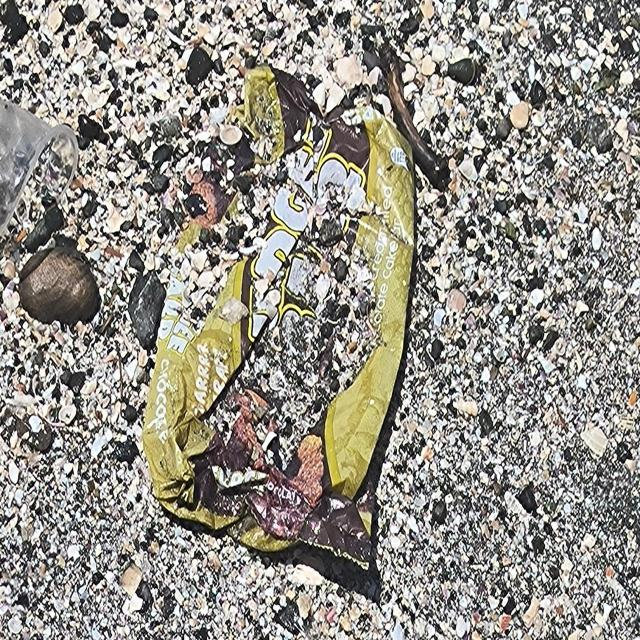plastic_waste: (144, 62, 418, 572)
